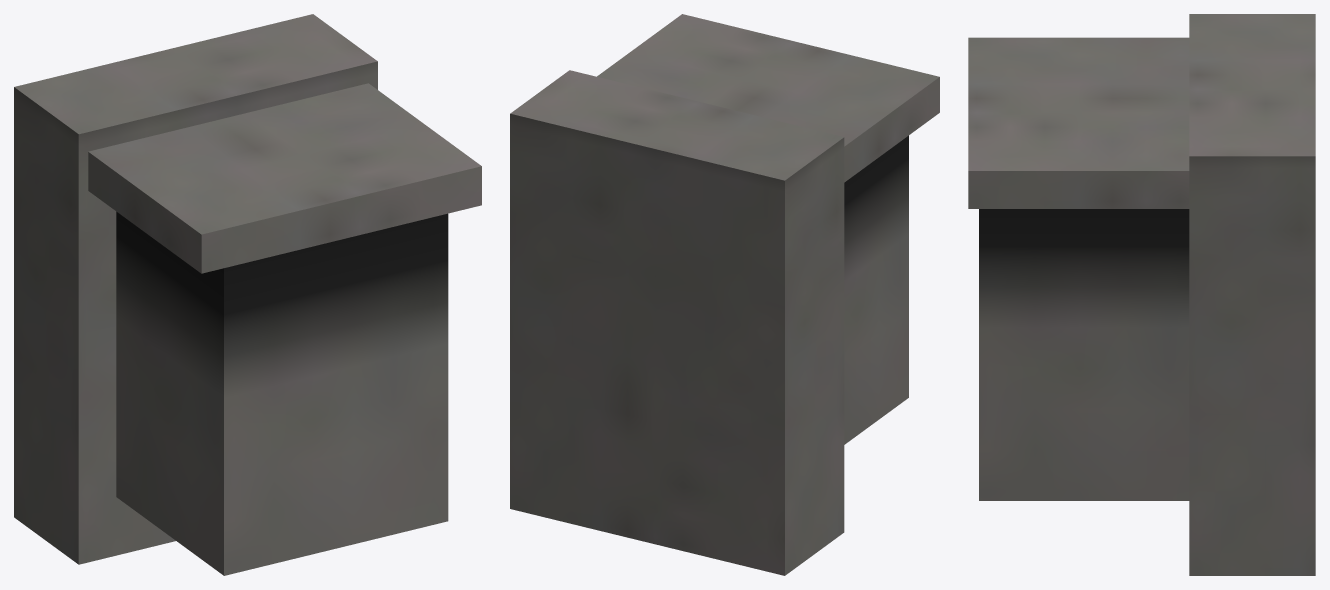
The model's file is lamp_wall.fbx.
3 views of the same model, side by side, from view 1: azimuth 30°, elevation 25°; view 2: azimuth 150°, elevation 25°; view 3: azimuth 270°, elevation 25° (orthographic). The views are drawn at different scales.
Parts seen in each view (by area): view 1: lamp_wall; view 2: lamp_wall; view 3: lamp_wall.
Part boxes in pixels (<box>): lamp_wall: <box>14,14,481,575</box>; lamp_wall: <box>510,14,939,575</box>; lamp_wall: <box>968,14,1315,575</box>.
Size of the model in its own units: 0.16 by 0.22 by 0.165.
